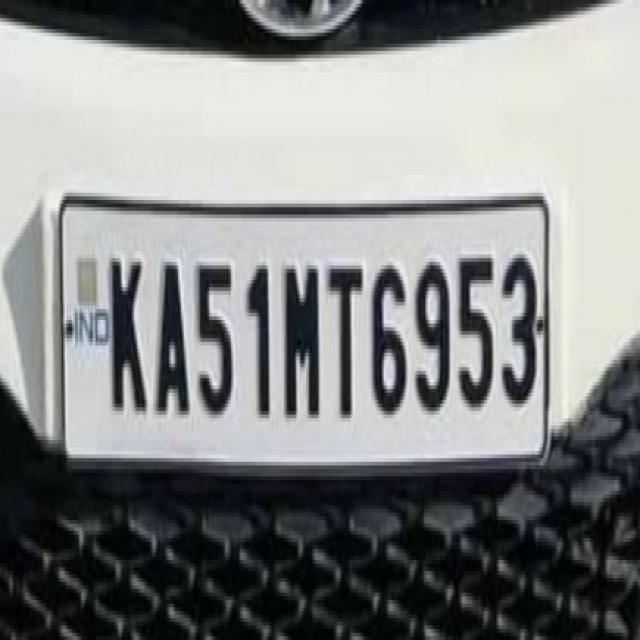1: (246, 250, 276, 425)
3: (499, 242, 544, 428)
5: (457, 239, 500, 426), (194, 258, 240, 420)
6: (370, 252, 412, 436)
9: (412, 240, 454, 414)
A: (150, 244, 192, 426)
K: (108, 248, 152, 426)
M: (280, 244, 322, 434)
T: (326, 254, 366, 442)
